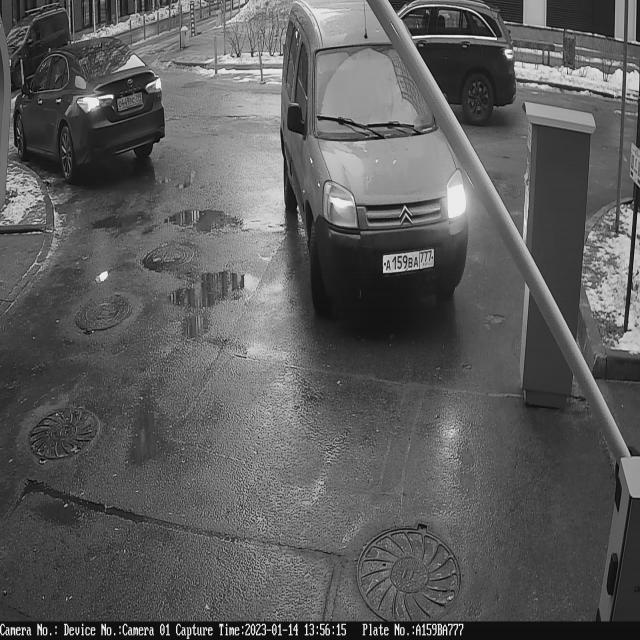car-plate-numbers: (382, 246, 439, 279)
